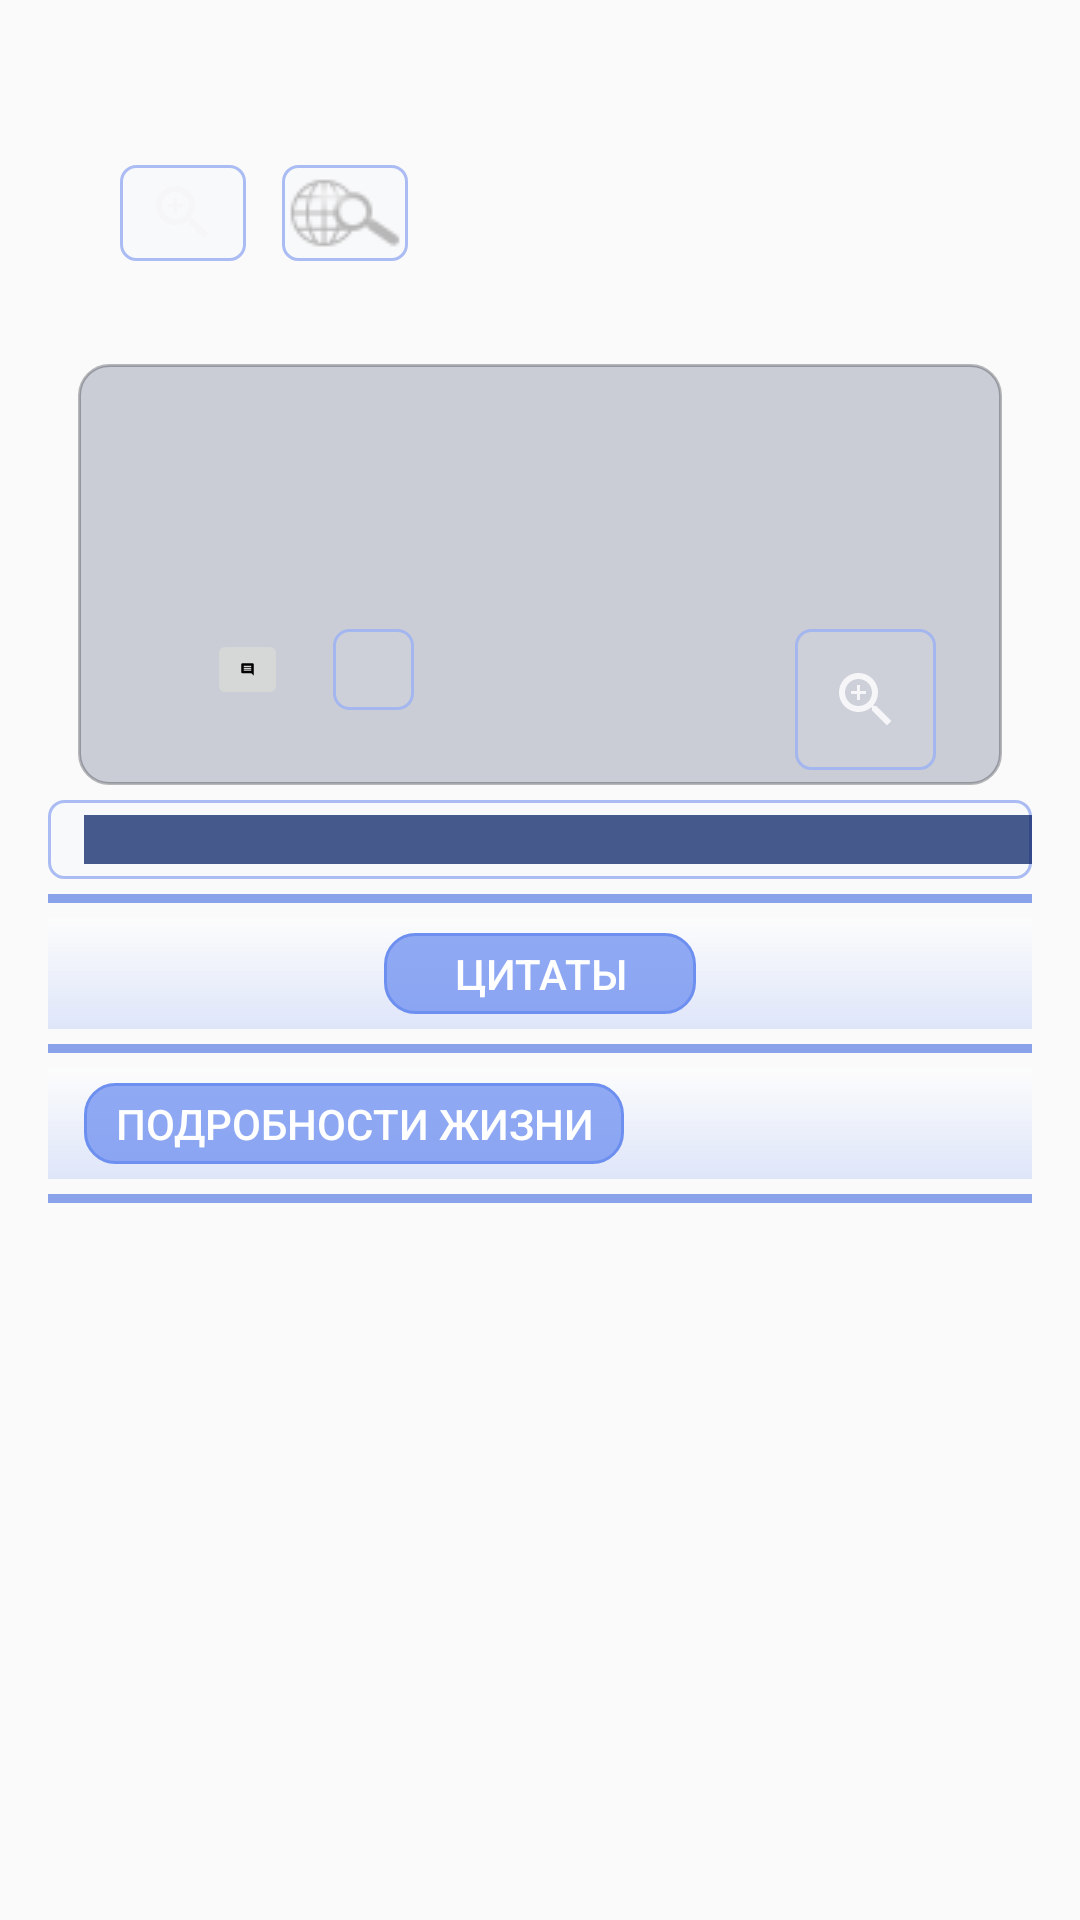

Where to tap for icons on this 1080*1920 app screen, as (x,y):
zoom in: (183,213), (865,699)
